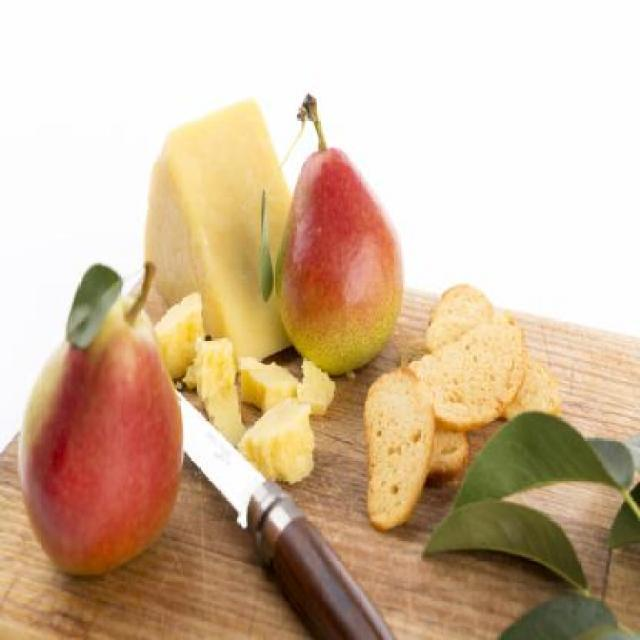Pear: (16, 292, 184, 576), (274, 150, 406, 372)
